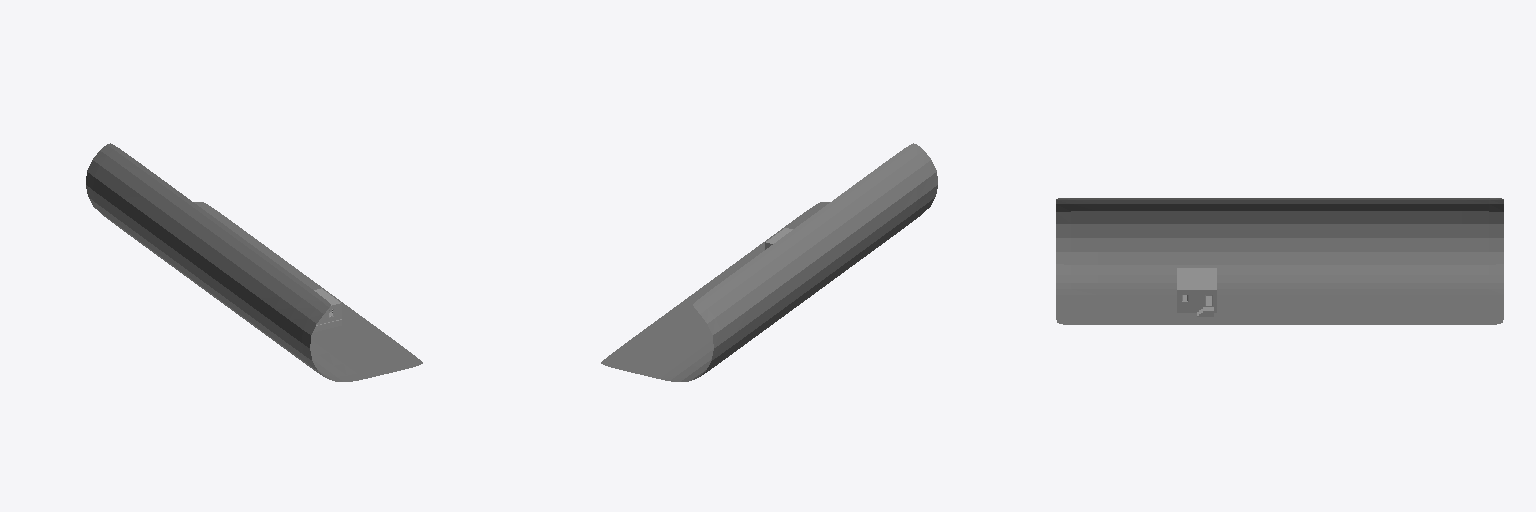
The model's file is HouseRender.obj.
3 renders of one model, left to right at view 1: azimuth 30°, elevation 25°; view 2: azimuth 150°, elevation 25°; view 3: azimuth 270°, elevation 25°, orthographic.
Parts seen in each view (by area): view 1: Plane, Cube.001_Cube; view 2: Plane; view 3: Plane, Cube.001_Cube.
Boxes of the visible parts, <box> form: Plane: <box>86,143,422,381</box>; Cube.001_Cube: <box>313,288,341,332</box>; Plane: <box>601,143,937,381</box>; Plane: <box>1056,198,1503,324</box>; Cube.001_Cube: <box>1177,268,1216,316</box>.
Bounding box in the file's own units: 5.68 × 3.8 × 18.78.